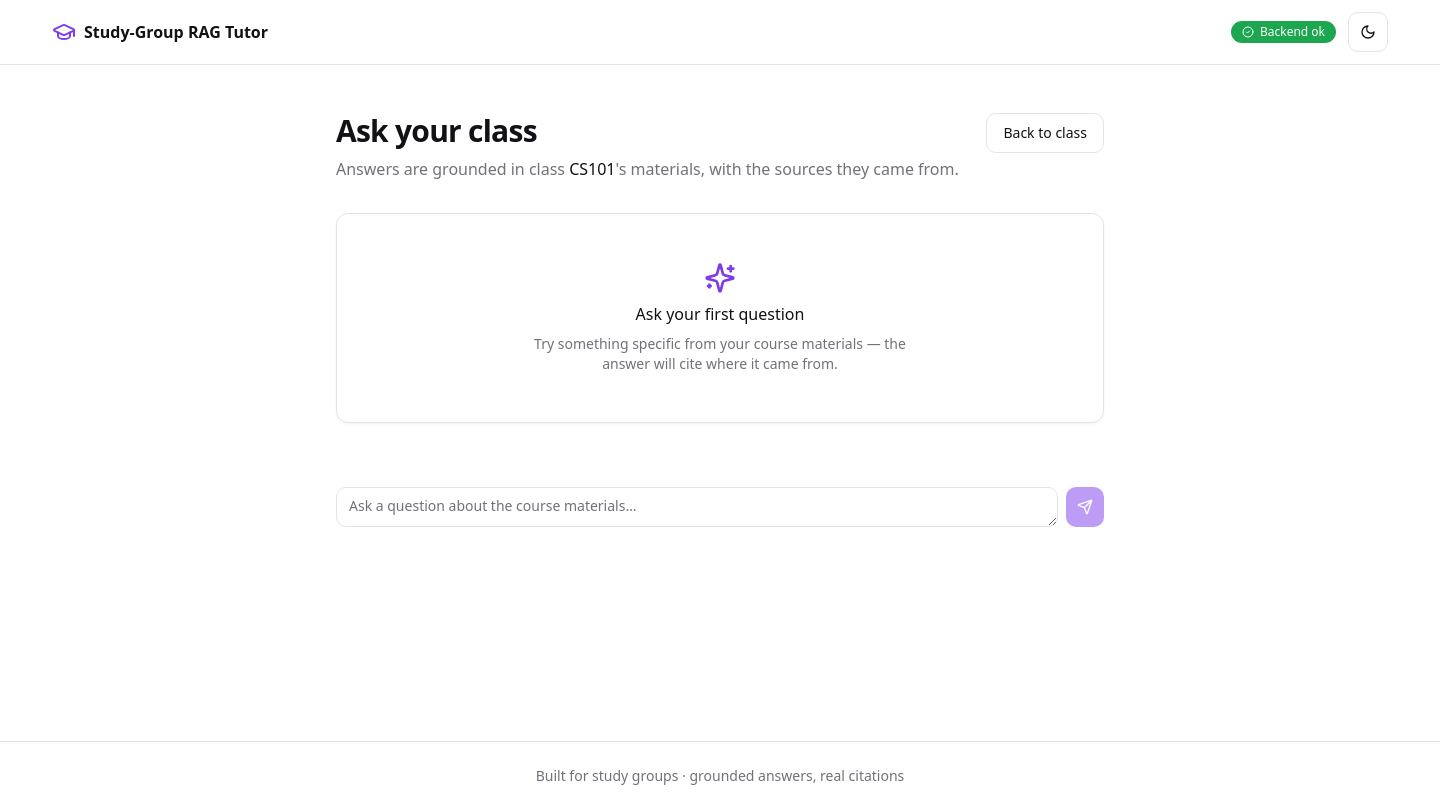
Test: AskPage › asks a question and renders the grounded answer with a mapped source
Type "What does the membrane do?" into the text box named "your question" at (697, 507), box [336,487,1058,527]
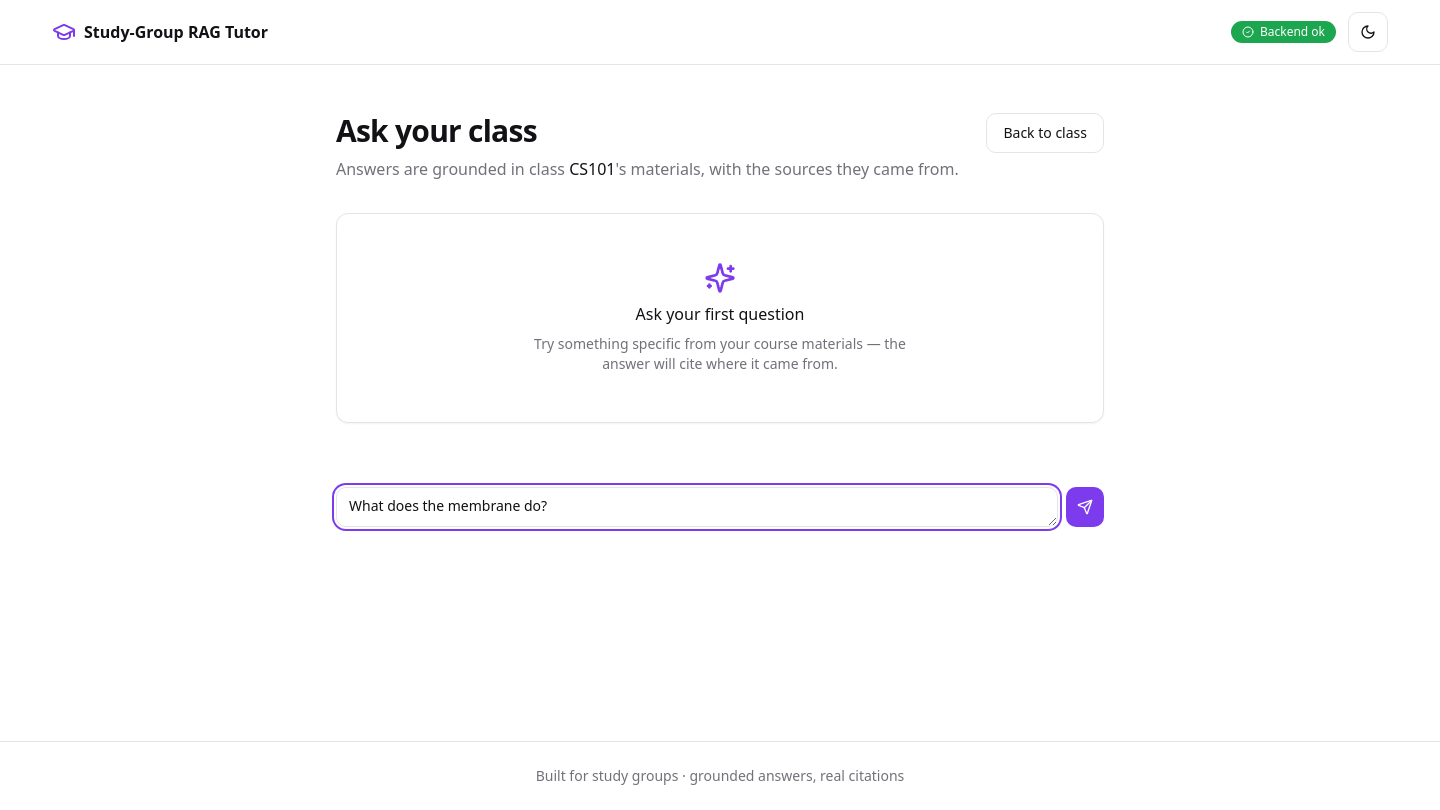
Click the button named "send question" at (1085, 507), box [1066,487,1104,527]
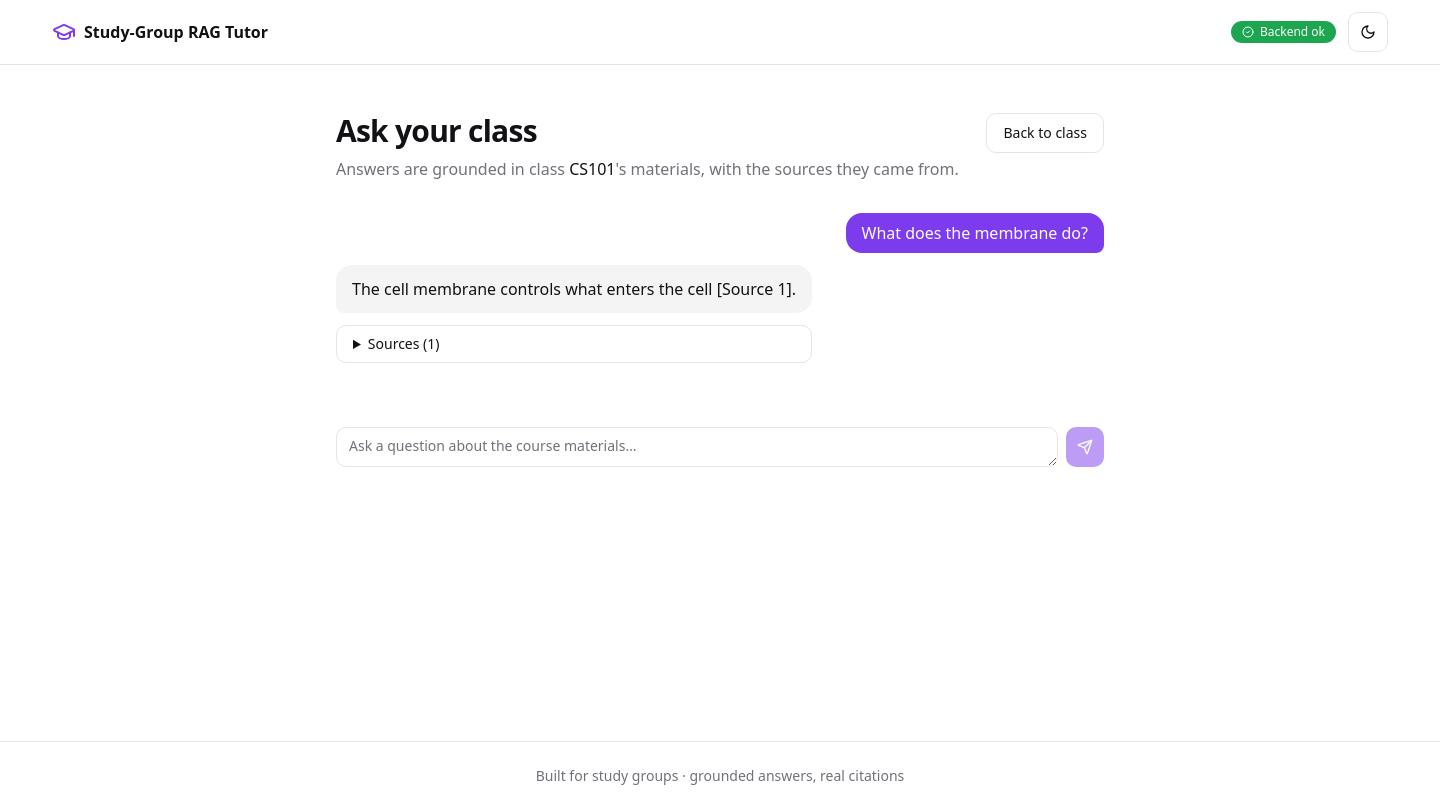
Expected: the text "The cell membrane controls what enters the cell [Source 1]." is shown, [336,265,812,313]
Click the heading "Sources (1)" at (404, 344), box [368,334,440,353]
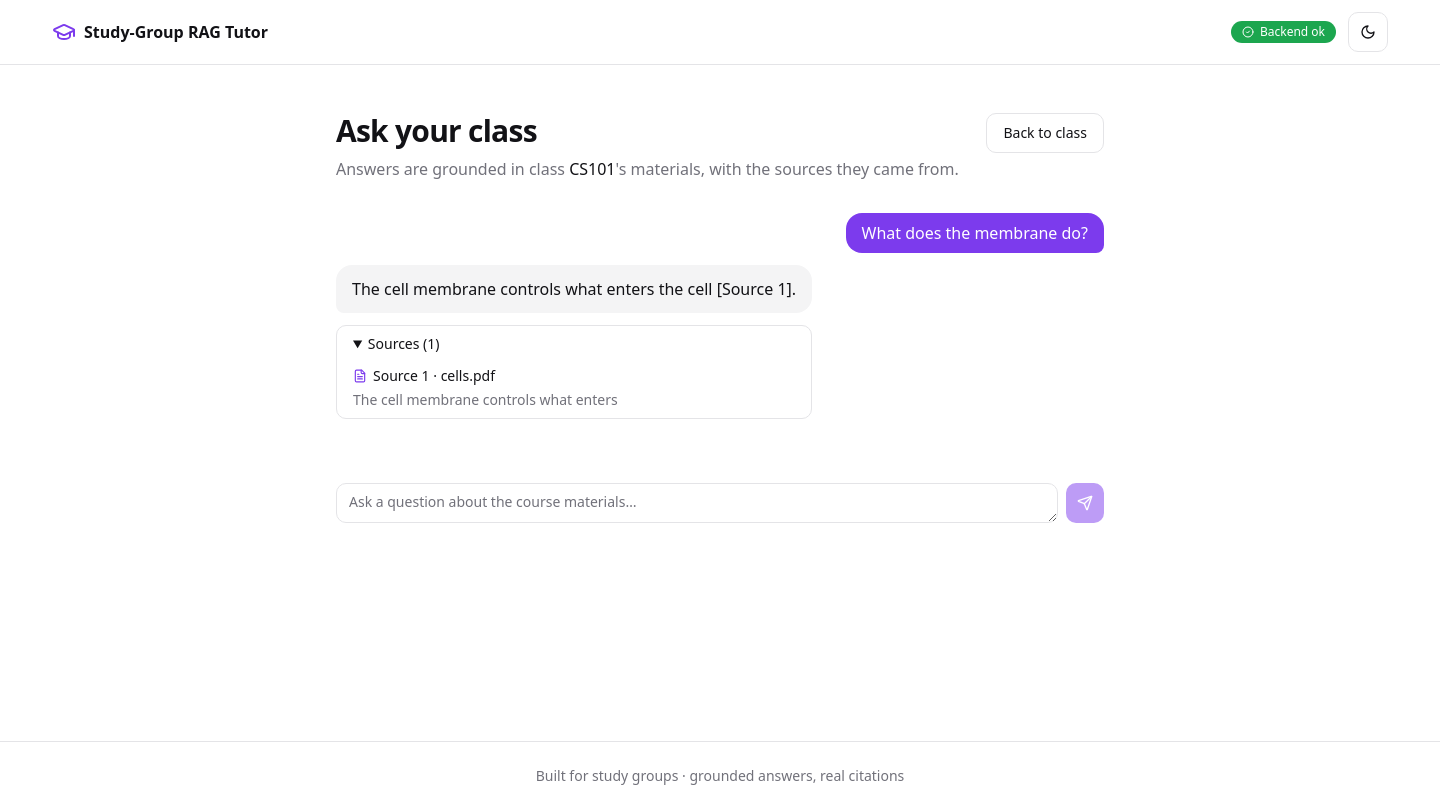
Expected: the text "Source 1 · cells.pdf" is shown, [353,366,495,385]
